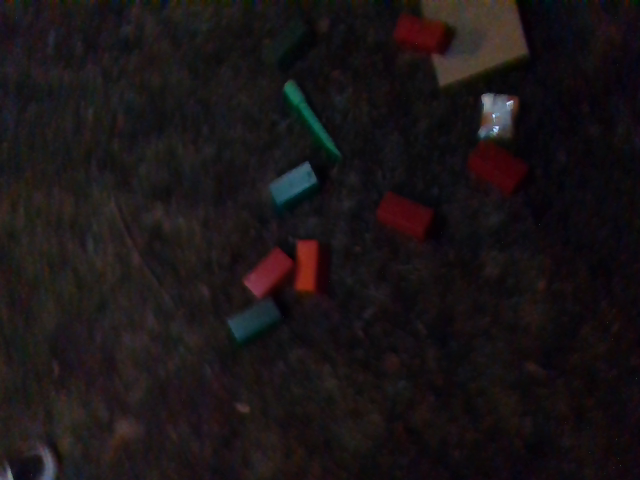Probe: (278, 73, 347, 167)
